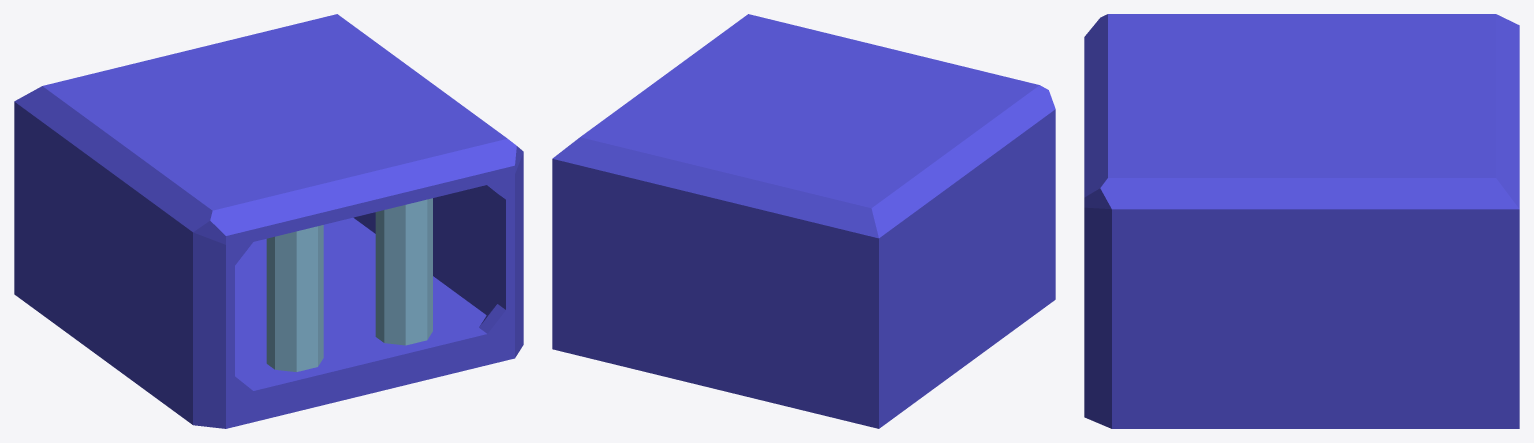
File: TESTcageshort.fbx
3 views of the same model, side by side, from view 1: azimuth 30°, elevation 25°; view 2: azimuth 150°, elevation 25°; view 3: azimuth 270°, elevation 25° (orthographic). The views are drawn at different scales.
Visible parts, largest first — view 1: cage.001; view 2: cage.001; view 3: cage.001.
Boxes of the visible parts, x1=… form: cage.001: x1=14, y1=14, x2=523, y2=428; cage.001: x1=552, y1=14, x2=1055, y2=428; cage.001: x1=1084, y1=14, x2=1519, y2=428.
Size of the model in its own units: 62.86 by 103 by 103.
